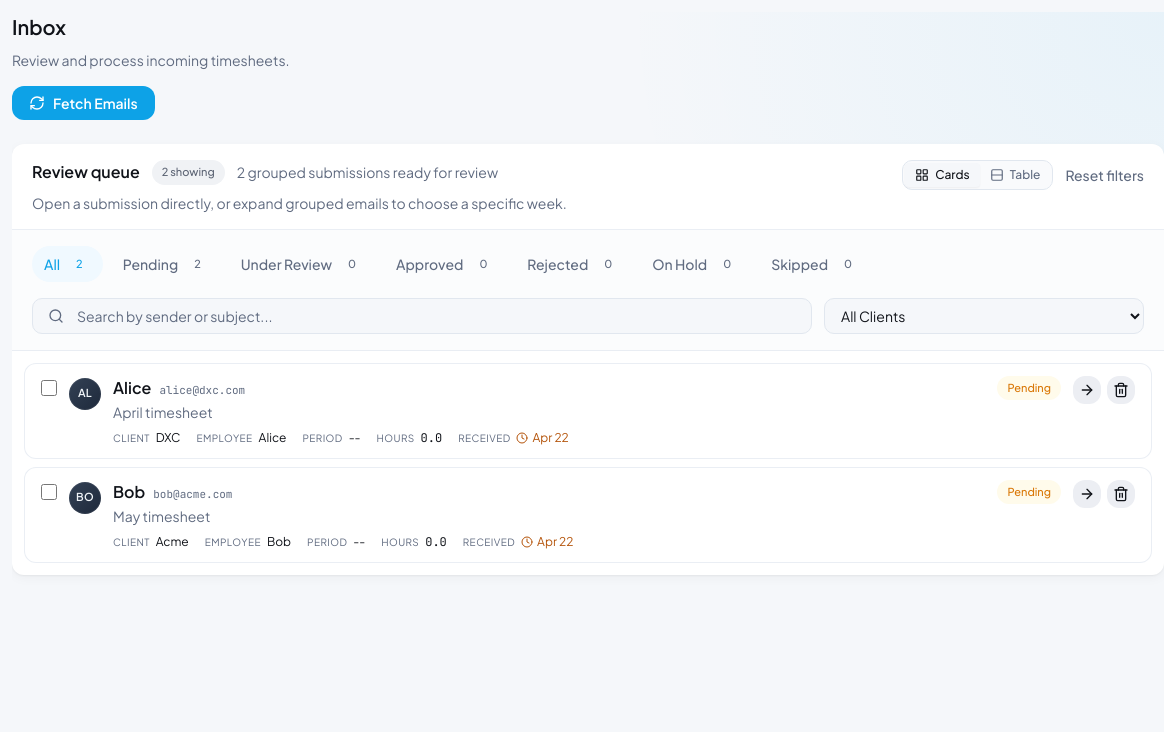
Scenario: InboxPage — view mode toggle › switches to Table view when the Table toggle is clicked and persists the choice
Click the tab "Table".
click(1015, 175)  # box [980,163,1050,187]
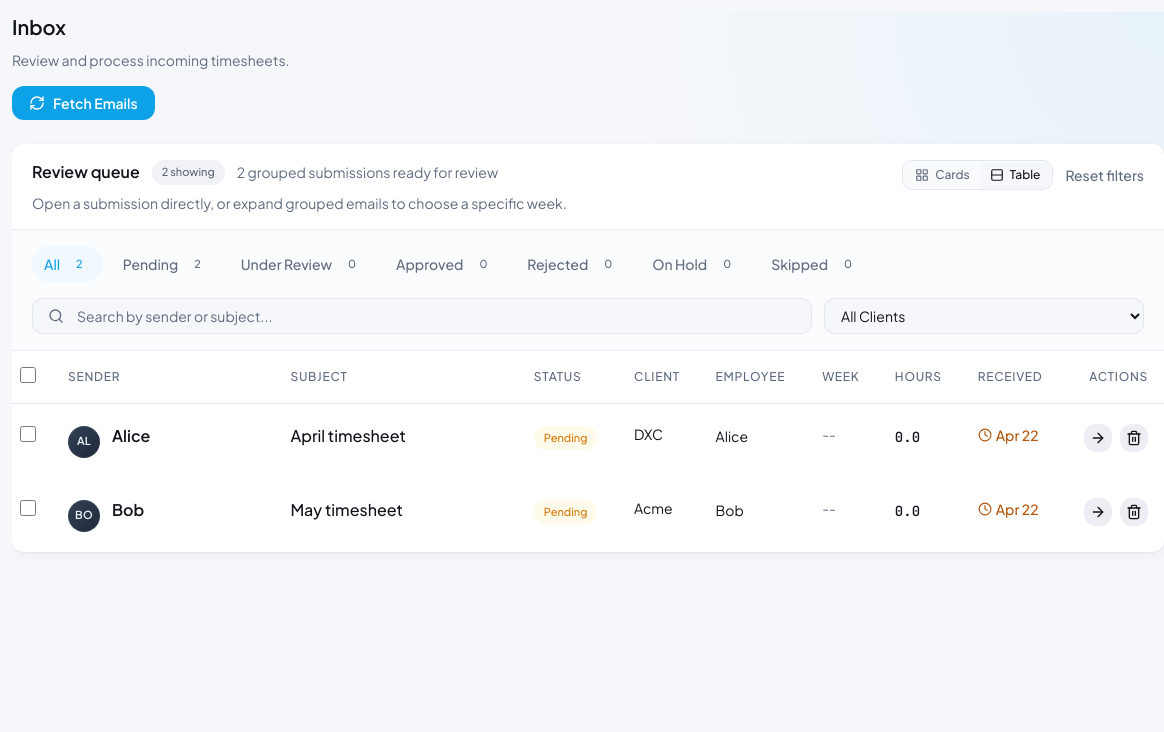
Expected: the column heading "Subject" is shown, [274,350,518,403]
Expected: the element with test id "inbox-cards-view" is gone
